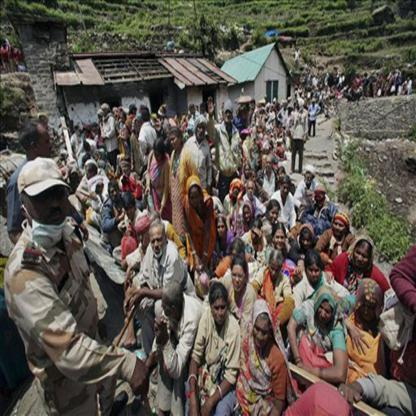face: (35, 183, 66, 225), (253, 315, 271, 349), (38, 125, 54, 162), (212, 298, 229, 325), (317, 300, 334, 327), (354, 243, 371, 270), (361, 298, 378, 324), (151, 228, 165, 255), (233, 267, 247, 293), (307, 263, 323, 285), (162, 291, 173, 317), (270, 260, 282, 282), (274, 230, 287, 250), (334, 218, 346, 238), (189, 186, 201, 205), (301, 234, 313, 251), (125, 203, 136, 221), (270, 207, 280, 224), (316, 190, 326, 207), (170, 135, 180, 152), (231, 248, 241, 264), (110, 188, 120, 203), (281, 183, 291, 197), (196, 127, 206, 141), (224, 109, 233, 123), (244, 208, 252, 223), (247, 185, 255, 199), (218, 223, 226, 237), (305, 173, 314, 184), (122, 164, 130, 176), (41, 116, 49, 128), (123, 164, 130, 176), (234, 185, 241, 197), (267, 157, 273, 171), (245, 166, 251, 177), (86, 169, 92, 180), (155, 150, 161, 161), (252, 173, 257, 184), (279, 171, 285, 179), (209, 102, 213, 112), (124, 128, 128, 138), (297, 101, 301, 110), (2, 41, 7, 48), (121, 115, 125, 123), (251, 103, 255, 111), (288, 107, 292, 114), (103, 109, 107, 115), (98, 114, 101, 121), (171, 36, 173, 41)
